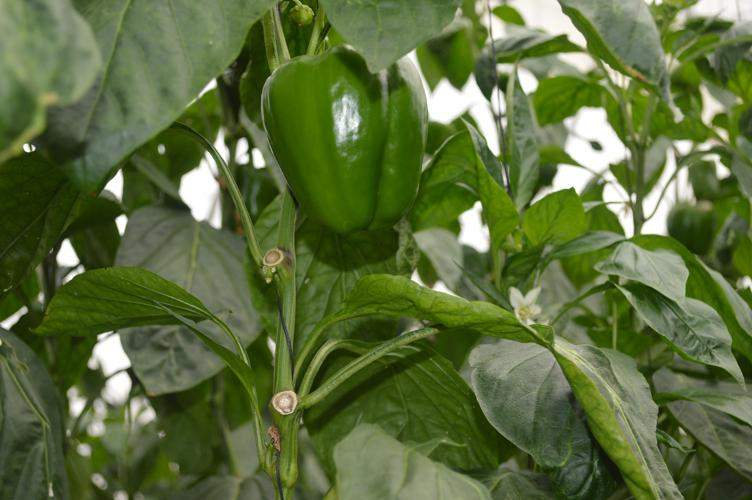BellPepper: (255, 49, 420, 229)
